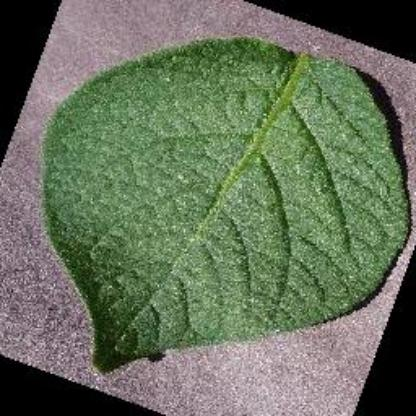Healthy-plant: (31, 34, 411, 376)
